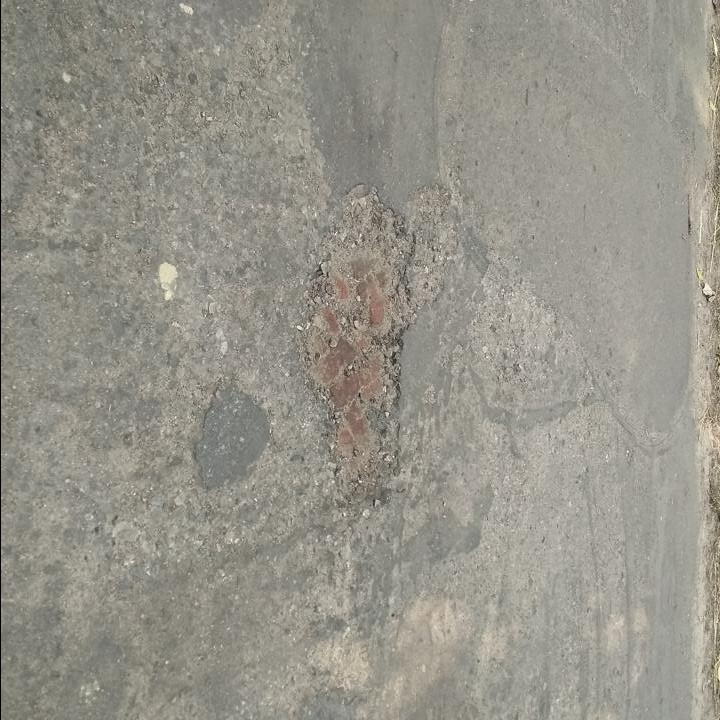pothole: (295, 179, 417, 509)
